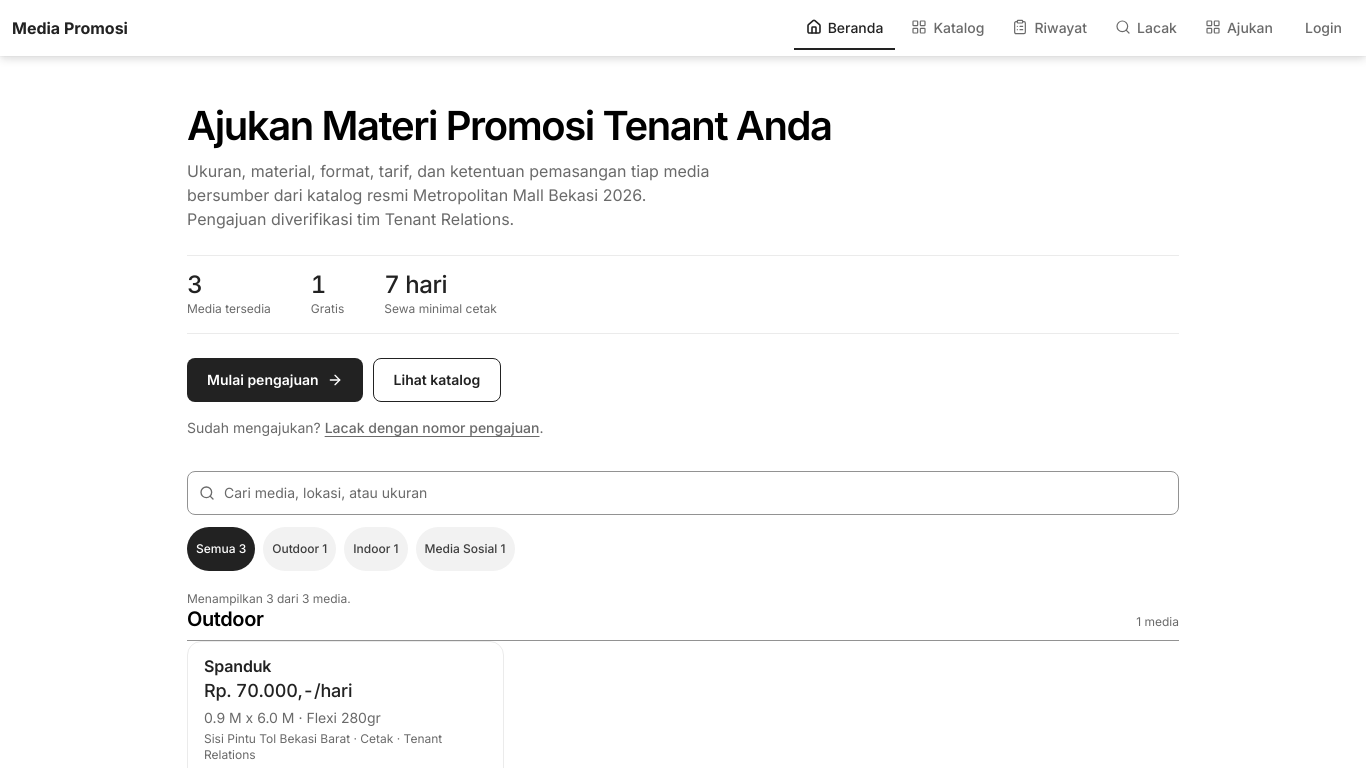
Test: PromoLandingPage - pencarian & filter katalog › kombinasi tanpa hasil → pesan kosong, tanpa bagian kategori
expect the heading "Spanduk" is shown: met, box [204,656,271,676]
Type "tidak ada media ini" into the search field labelled "Cari media" at (683, 493), box [187,471,1179,515]
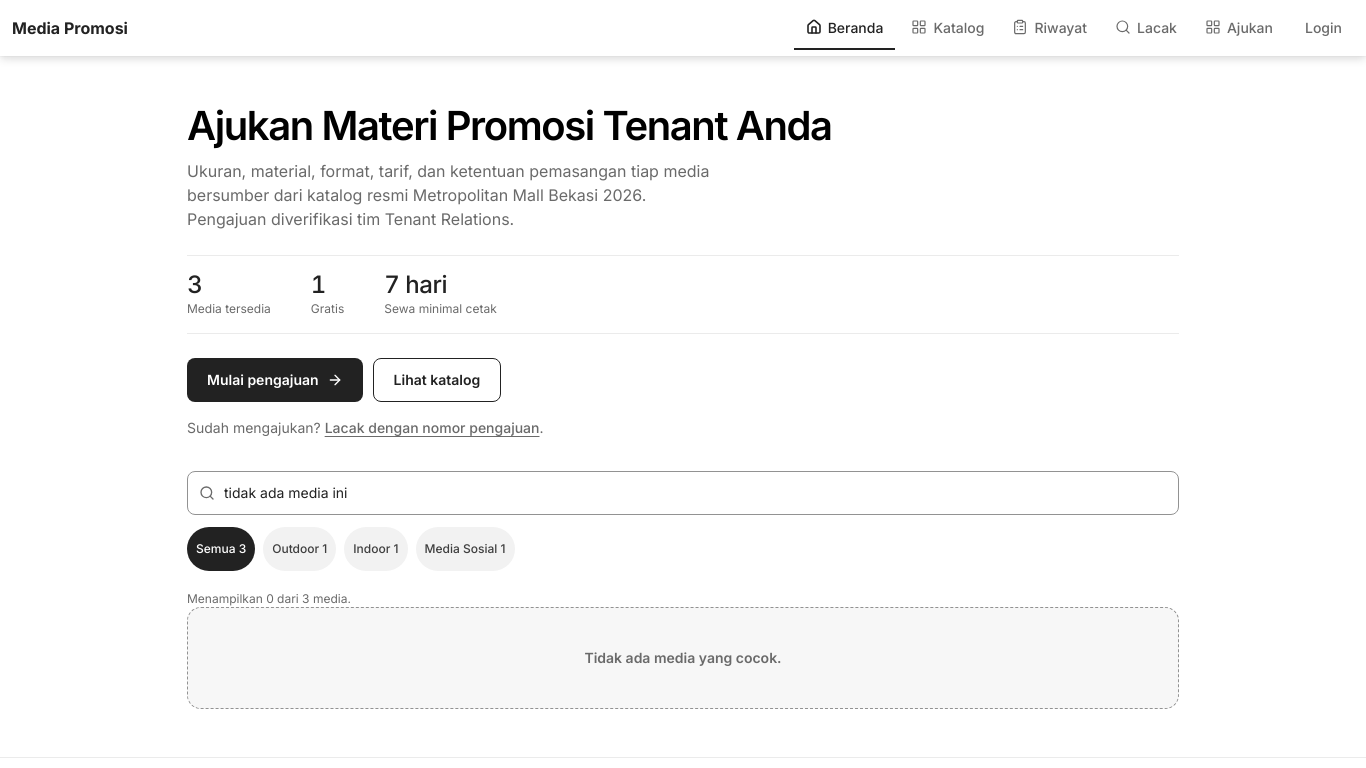
expect the text "Tidak ada media yang cocok." is shown: met, box [187,608,1179,710]
expect the message shows "Menampilkan 0 dari 3 media": met, box [187,591,351,606]
